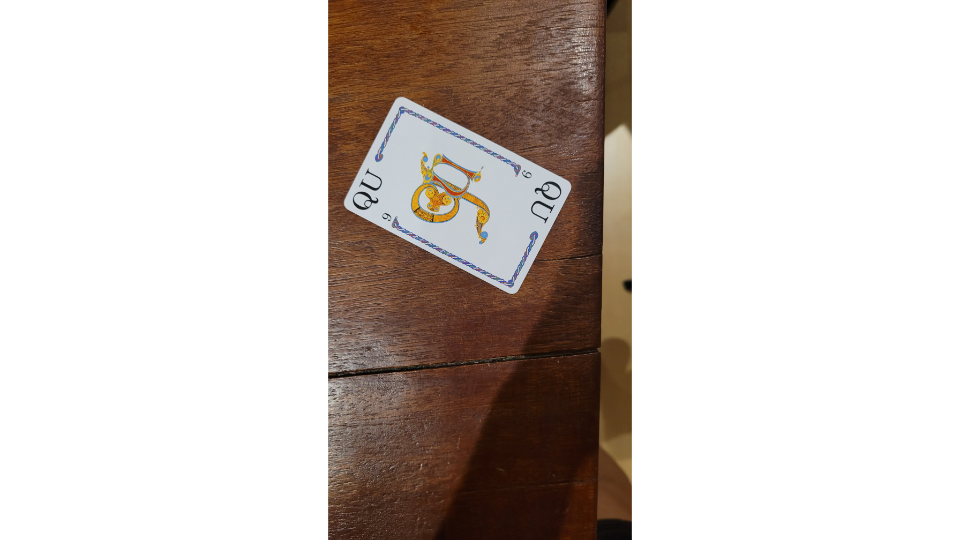QU: (341, 94, 574, 296)
